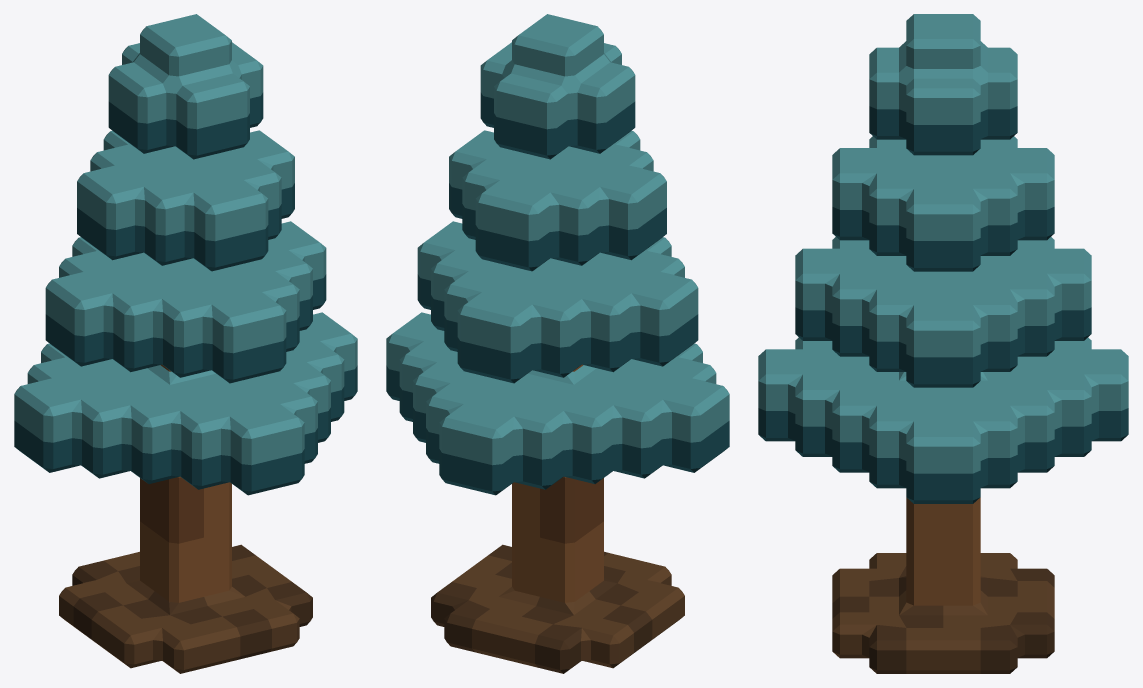
The model's file is prop_sapling_1_voxel.fbx.
3 renders of one model, left to right at view 1: azimuth 30°, elevation 25°; view 2: azimuth 150°, elevation 25°; view 3: azimuth 270°, elevation 25°, orthographic.
Visible parts, largest first — view 1: prop_sapling_1_voxel; view 2: prop_sapling_1_voxel; view 3: prop_sapling_1_voxel.
Part boxes in pixels (x1,y1,x2,y2): prop_sapling_1_voxel: (14, 14, 357, 673); prop_sapling_1_voxel: (386, 14, 729, 673); prop_sapling_1_voxel: (758, 14, 1128, 673).
Bounding box in the file's own units: 0.8 × 1.44 × 0.8.
